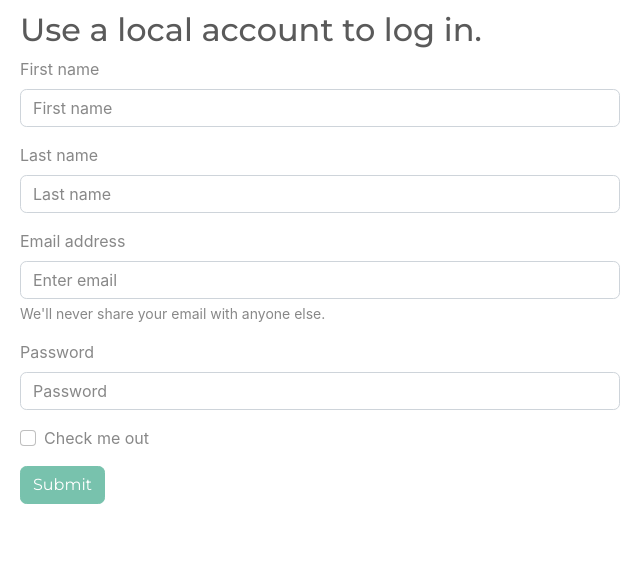
Test: Register component › should show warining upon inncorrect password input
The image size is (641, 561).
In the password field with placeholder "Password": (320, 391) [20,372,620,410], type "111"
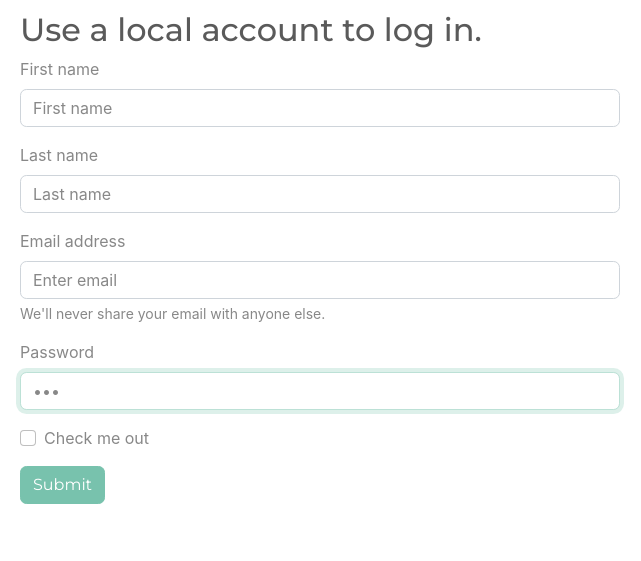
In the field with placeholder "Enter email": (320, 280) [20,261,620,299], type "visitacity@abv.bg"
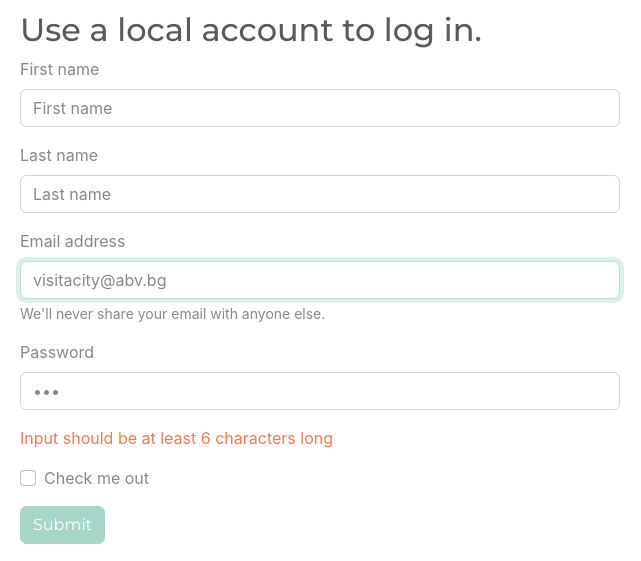
Result: the text "Input should be at least 6 characters long" is shown at [20,428,333,448]
